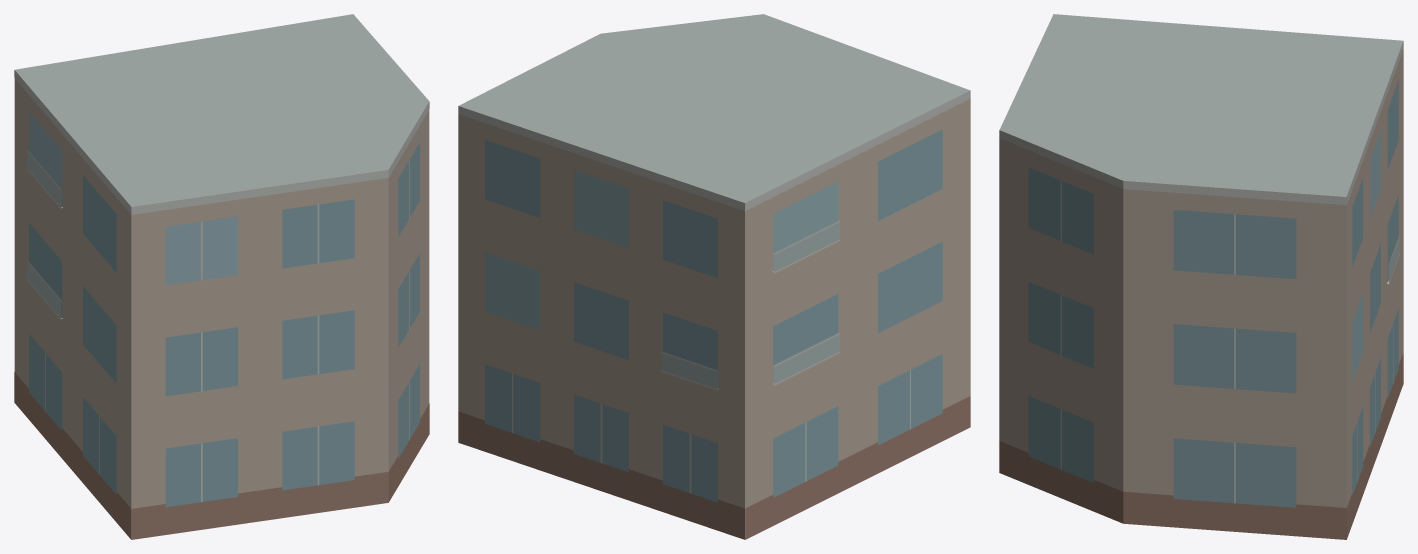
Rendered from survey-upis-32665121.glb.
3 views of the same model, side by side, from view 1: azimuth 30°, elevation 25°; view 2: azimuth 150°, elevation 25°; view 3: azimuth 270°, elevation 25° (orthographic). The views are drawn at different scales.
Parts seen in each view (by area): view 1: survey-upis-32665121.tmp; view 2: survey-upis-32665121.tmp; view 3: survey-upis-32665121.tmp.
Part boxes in pixels (left/top/right/bottom): survey-upis-32665121.tmp: left=14, top=14, right=429, bottom=539; survey-upis-32665121.tmp: left=458, top=14, right=970, bottom=539; survey-upis-32665121.tmp: left=999, top=14, right=1403, bottom=539.
Bounding box in the file's own units: 11.69 × 10.2 × 10.91.
